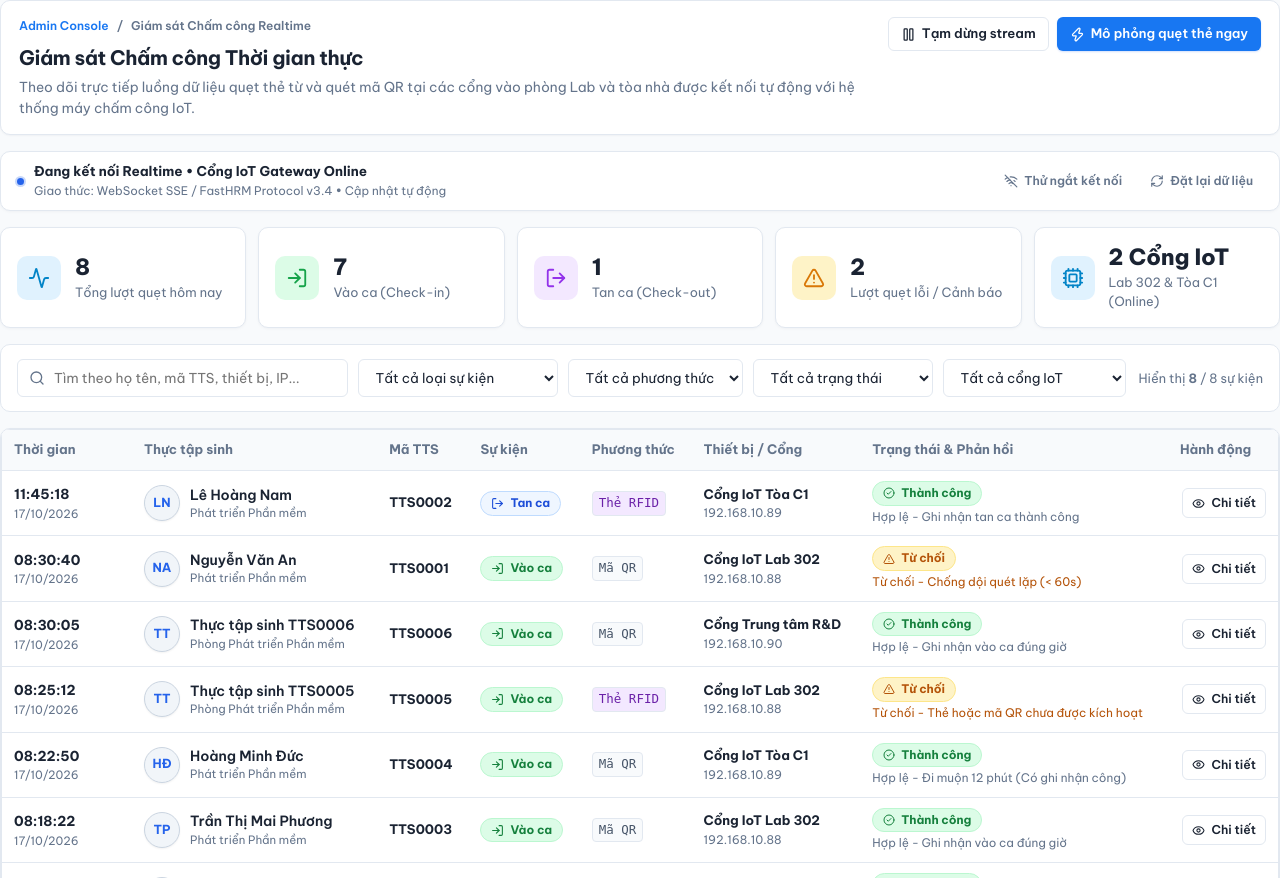
Test: RealtimeAttendanceMonitorPage - Màn hình Giám sát Chấm công Realtime › 9. Mở Modal xem chi tiết sự kiện quẹt thẻ khi bấm nút "Chi tiết"
// Bấm nút Chi tiết ở dòng đầu tiên
Click the button "Chi tiết" in the row of "11:45:18" at point(1224, 503), box [1182,488,1266,518]
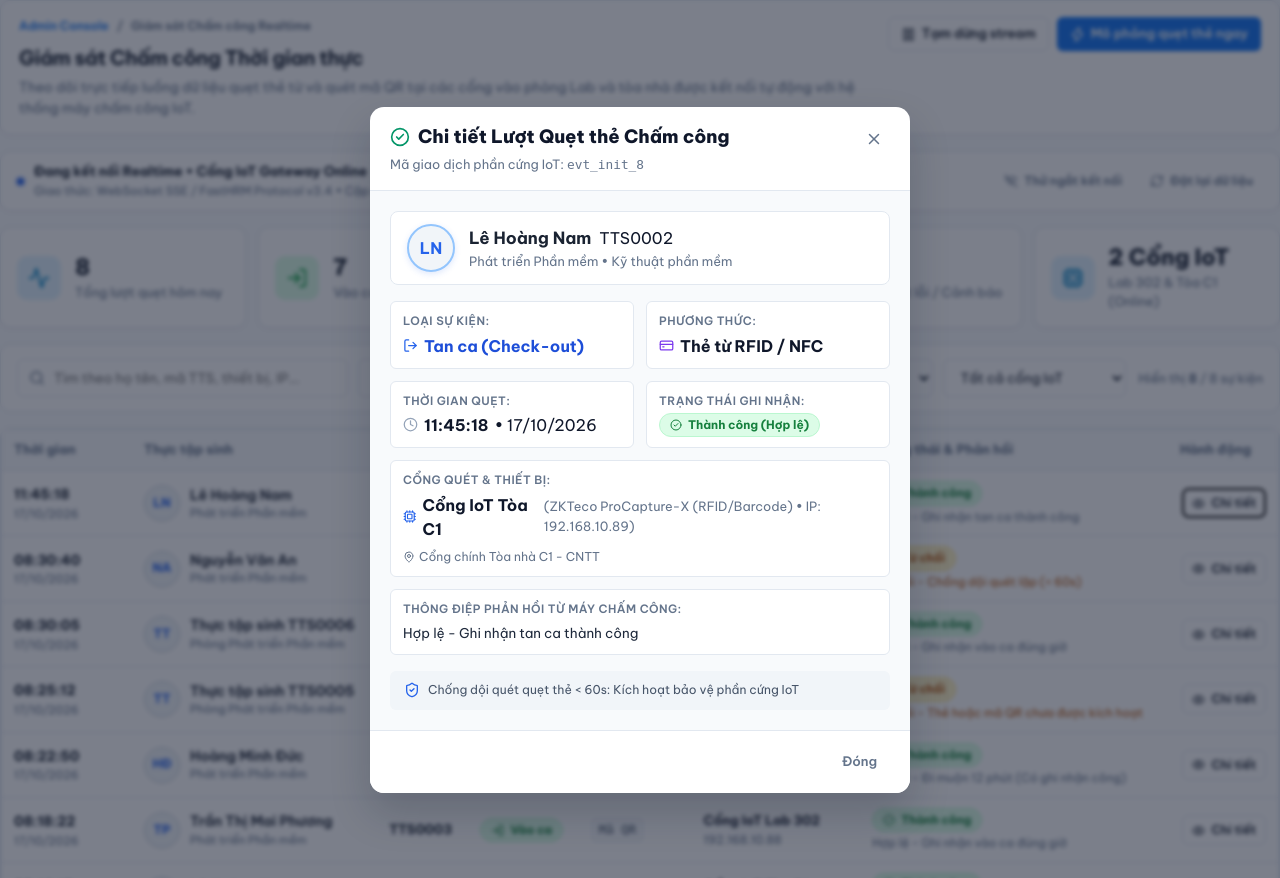
Now the heading "Chi tiết Lượt Quẹt thẻ Chấm công" is shown, box [418,124,730,151]
Now the text "Loại sự kiện:" is shown, box [403,313,490,328]
Now the text "Chống dội quét quẹt thẻ < 60s" is shown, box [428,682,799,697]
// Đóng modal
Click the button with test id "event-modal-close-btn" at point(874, 140), box [858,124,890,156]
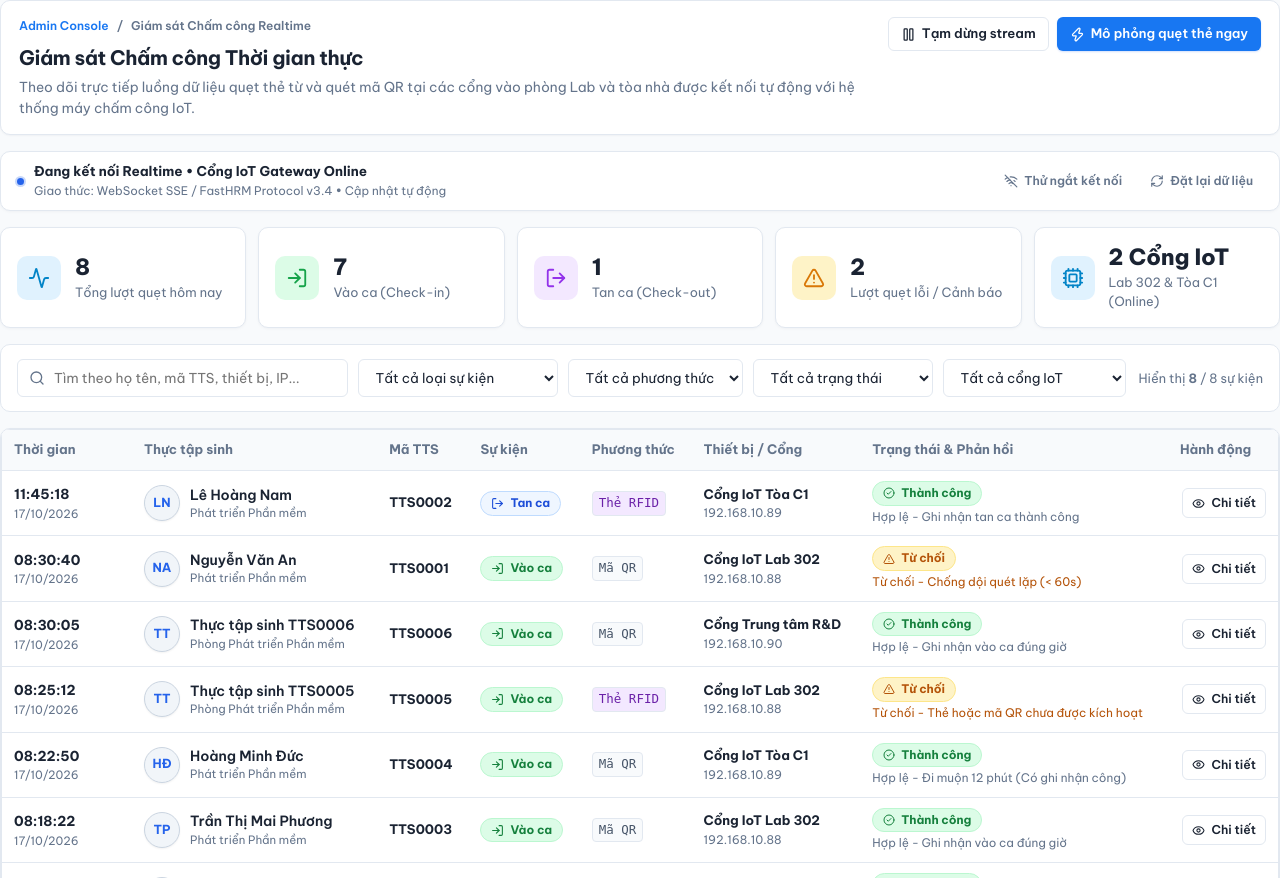
Now the heading "Chi tiết Lượt Quẹt thẻ Chấm công" is gone
